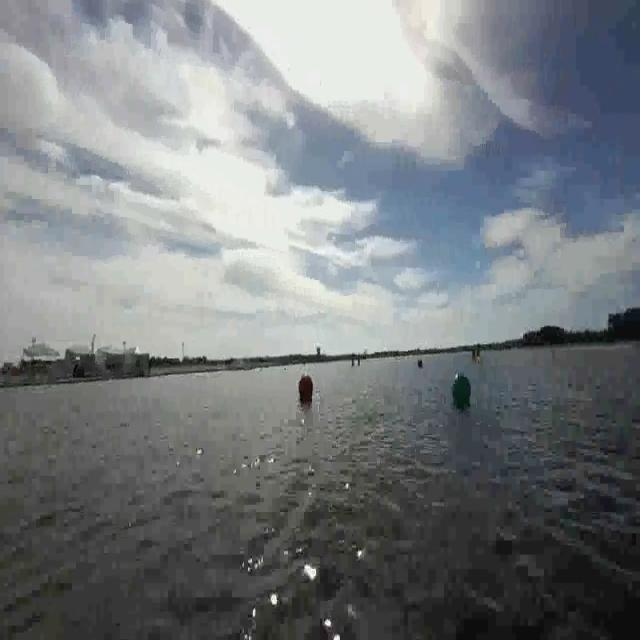blue-buoy: (450, 371, 470, 405)
red-buoy: (298, 372, 314, 403)
